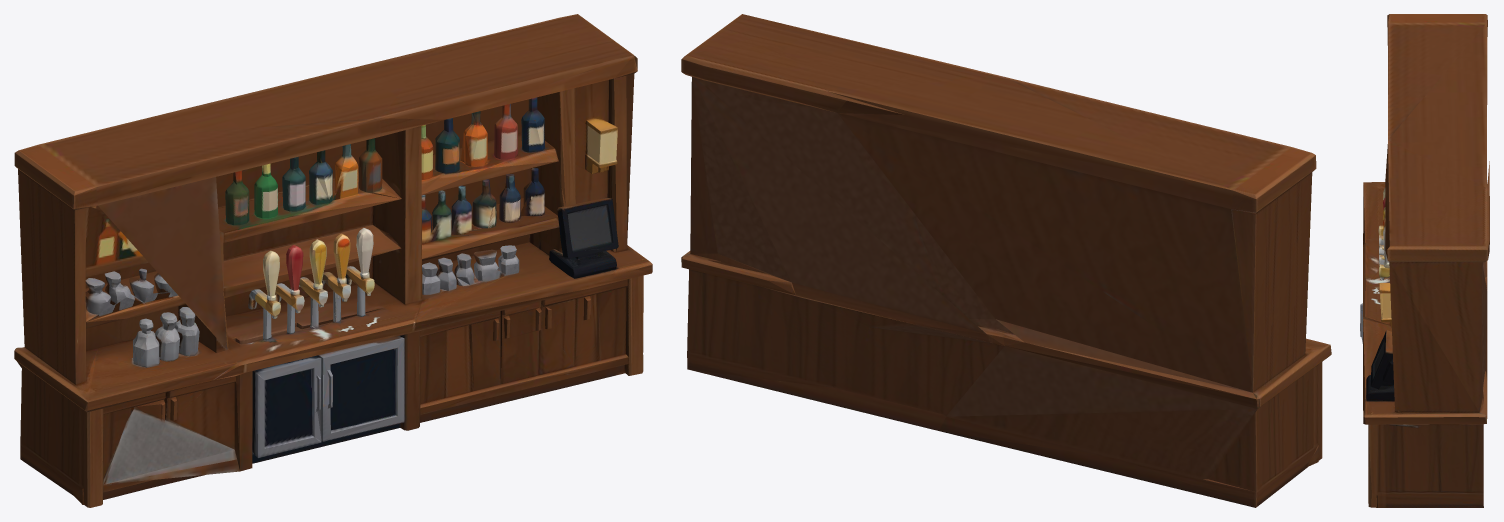
The model's file is backbar.glb.
3 renders of one model, left to right at view 1: azimuth 30°, elevation 25°; view 2: azimuth 150°, elevation 25°; view 3: azimuth 270°, elevation 25°, orthographic. The views are drawn at different scales.
Bounding box in the file's own units: 1.9 × 0.9878 × 0.442.
Materials: 1 (1 with a texture image).
